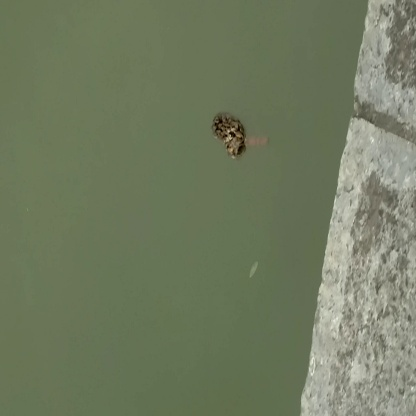leaf: (208, 108, 274, 156)
